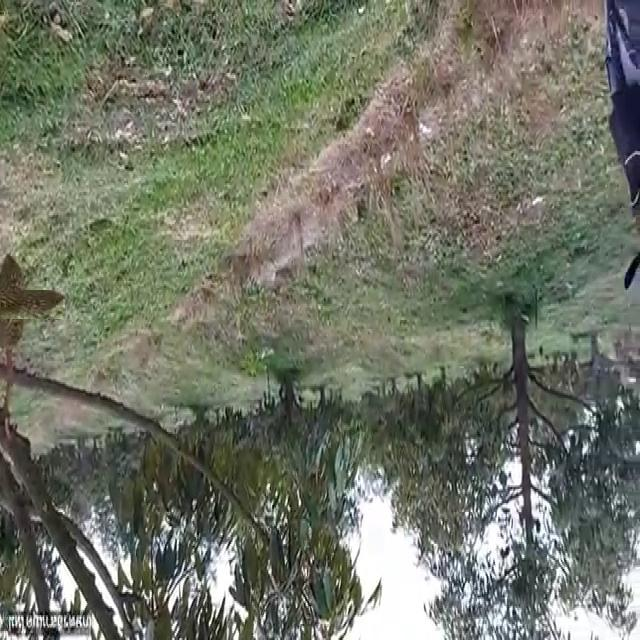durian: (0, 272, 48, 337)
